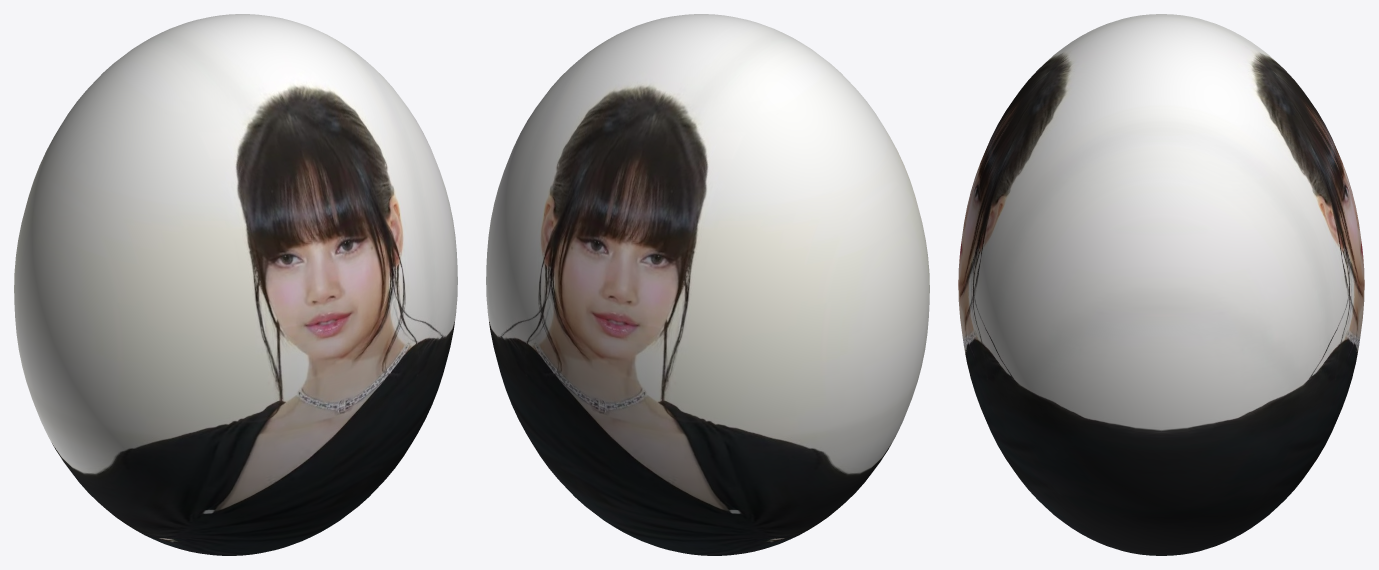
3 renders of one model, left to right at view 1: azimuth 30°, elevation 25°; view 2: azimuth 150°, elevation 25°; view 3: azimuth 270°, elevation 25°, orthographic.
Parts seen in each view (by area): view 1: head; view 2: head; view 3: head.
Part boxes in pixels (left/top/right/bottom): head: left=14, top=14, right=457, bottom=555; head: left=486, top=14, right=929, bottom=555; head: left=958, top=14, right=1364, bottom=555.
Bounding box in the file's own units: 1.61 × 2 × 1.45.
Materials: 1 (1 with a texture image).
